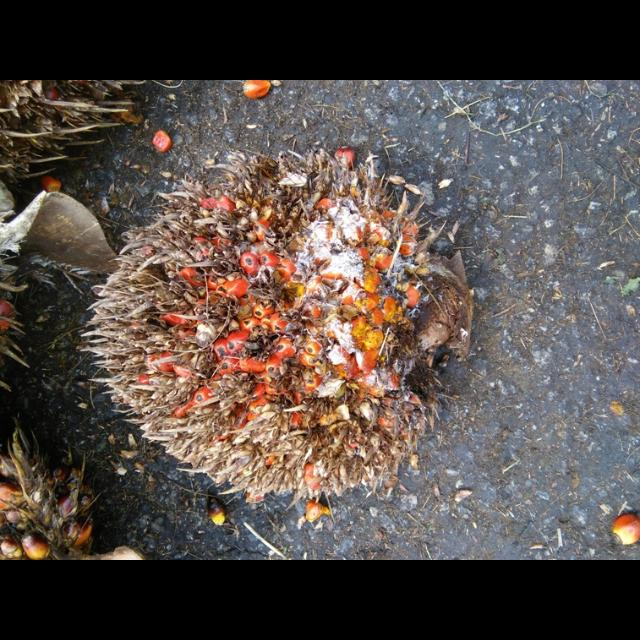Overripe: (103, 149, 478, 490)
